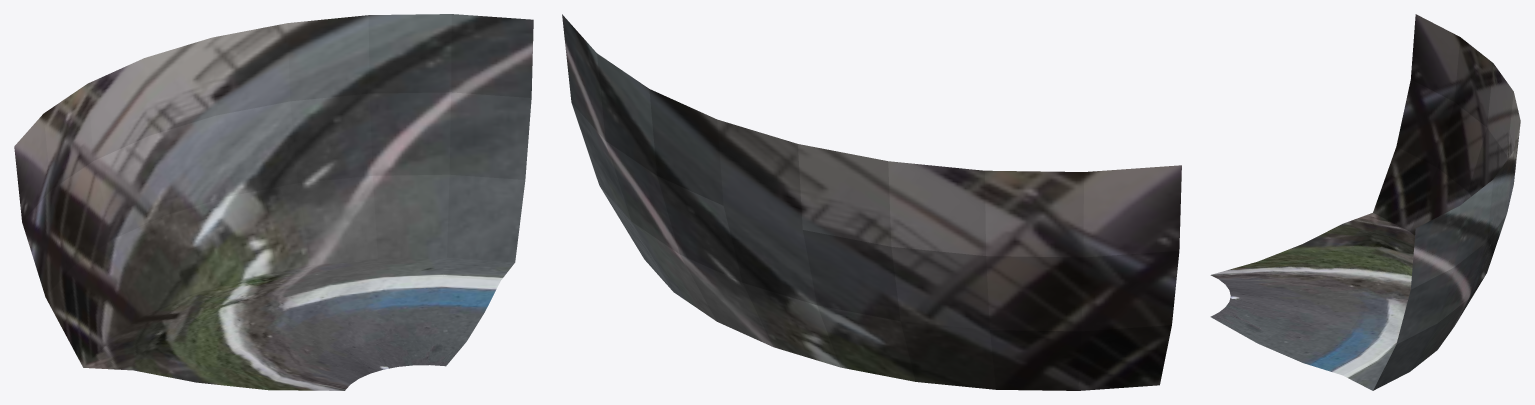
File: Front.obj
3 renders of one model, left to right at view 1: azimuth 30°, elevation 25°; view 2: azimuth 150°, elevation 25°; view 3: azimuth 270°, elevation 25°, orthographic. The views are drawn at different scales.
Parts seen in each view (by area): view 1: Sphere; view 2: Sphere; view 3: Sphere.
Boxes of the visible parts, <box> form: Sphere: <box>14,14,533,390</box>; Sphere: <box>562,14,1181,390</box>; Sphere: <box>1210,14,1520,390</box>.
Bounding box in the file's own units: 1.41 × 0.5606 × 0.8656.
